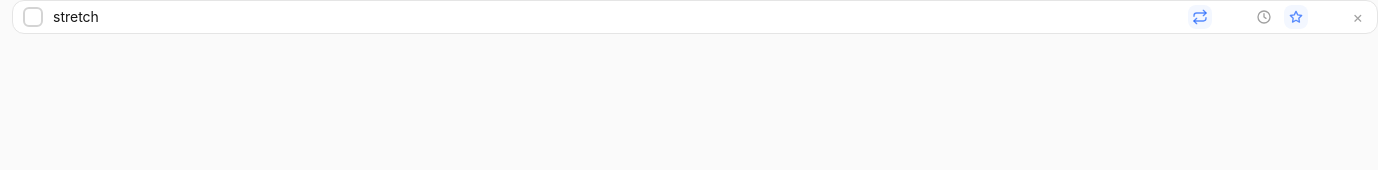
it: the reward on a task row › is spelled out under its star once the row is clicked into (RWD-7)
This screenshot has width=1378, height=170.
Expected: the text "+5" is not shown
Step 1. Click the list item → (695, 17), box [12,0,1377,34]
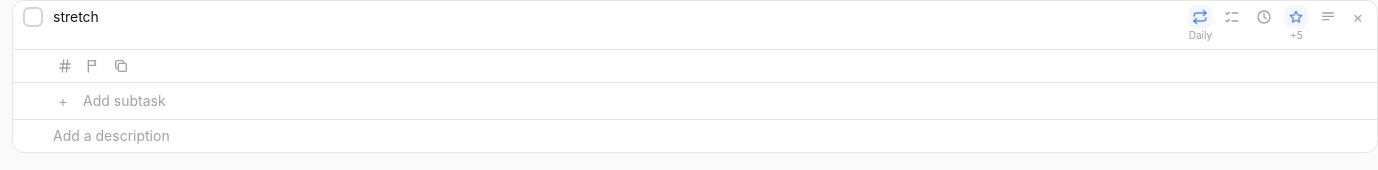
Expected: the text "+5" is shown, [1290,29,1303,45]
